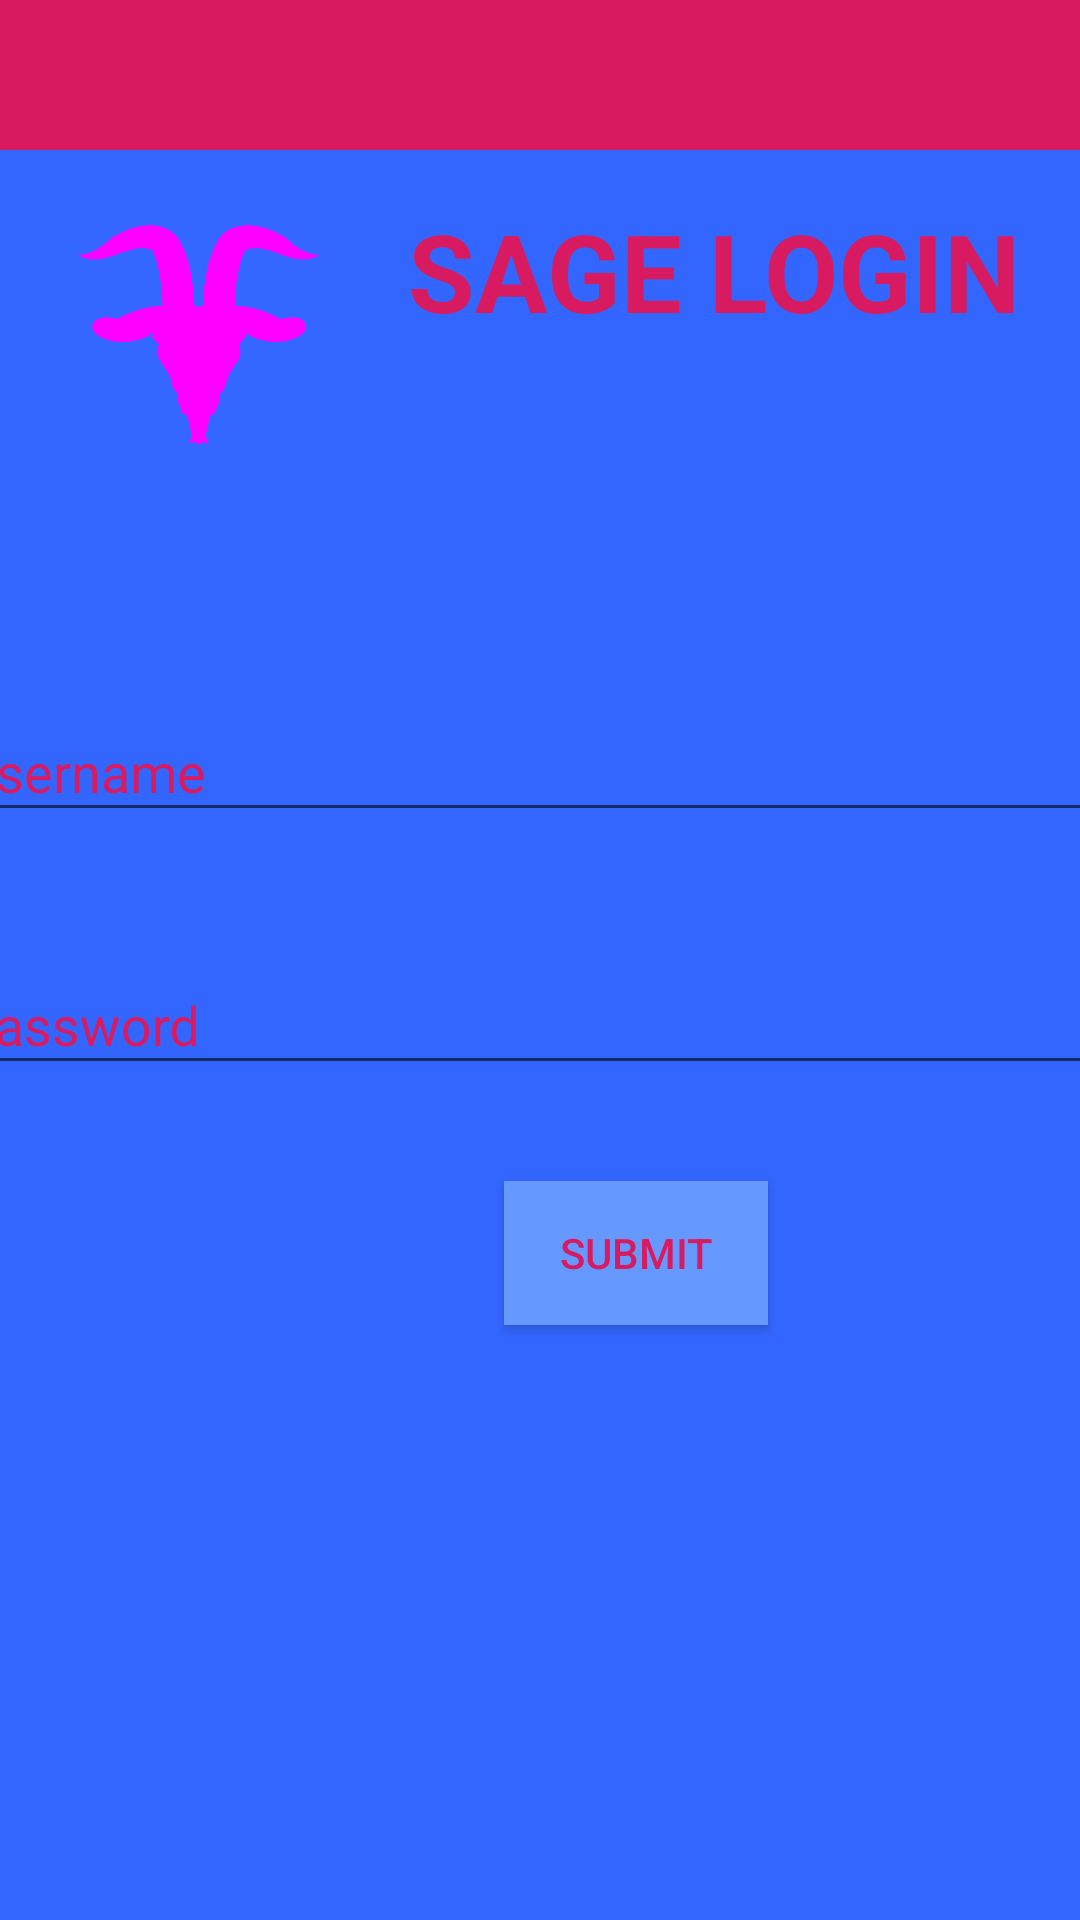

Screen size 1080×1920. Icon name, then its box in pixels as bbox=(x1, y1, x2, y2):
goat alone: bbox=(78, 225, 319, 444)
